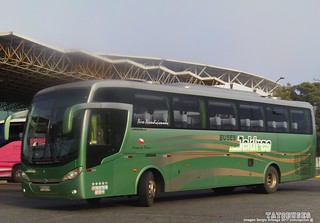bus: (20, 79, 315, 207)
